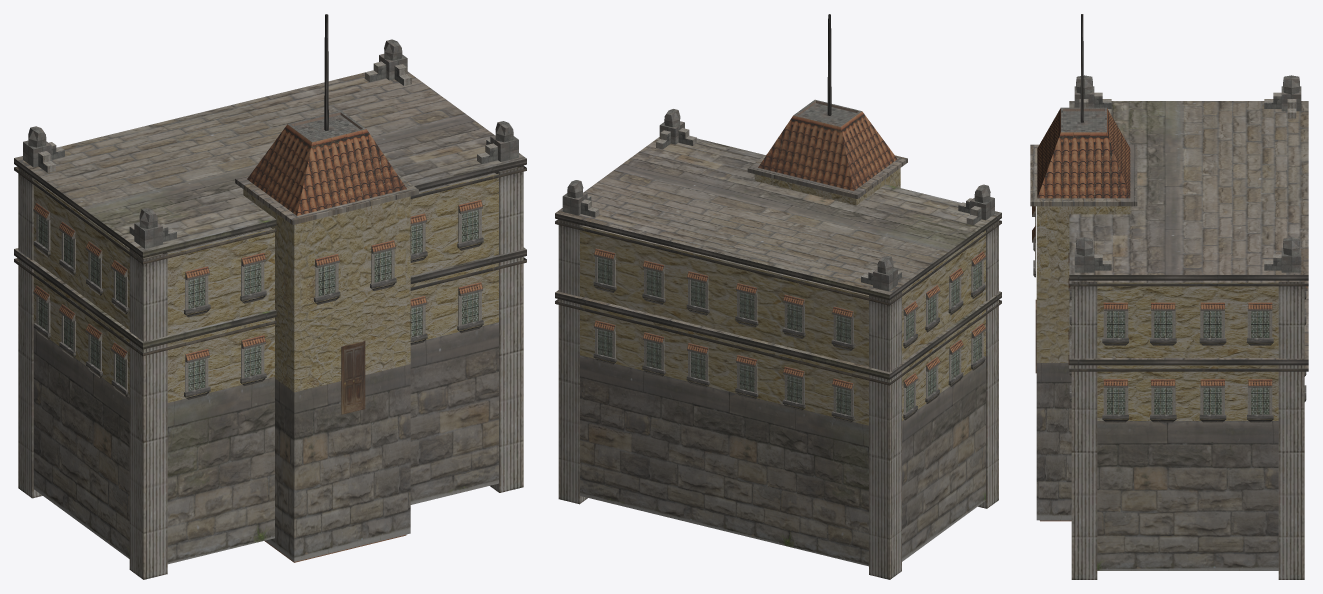
File: civic_center.dae
The picture shows the model from 3 angles, left to right: view 1: azimuth 30°, elevation 25°; view 2: azimuth 150°, elevation 25°; view 3: azimuth 270°, elevation 25°; orthographic projection. The views are drawn at different scales.
Visible parts, largest first — view 1: CivicCenter; view 2: CivicCenter; view 3: CivicCenter.
Part boxes in pixels (x1,y1,x2,y2): CivicCenter: (14,14,526,579); CivicCenter: (555,14,1001,579); CivicCenter: (1030,14,1308,579).
Bounding box in the file's own units: 31.9 × 21.52 × 40.95.
